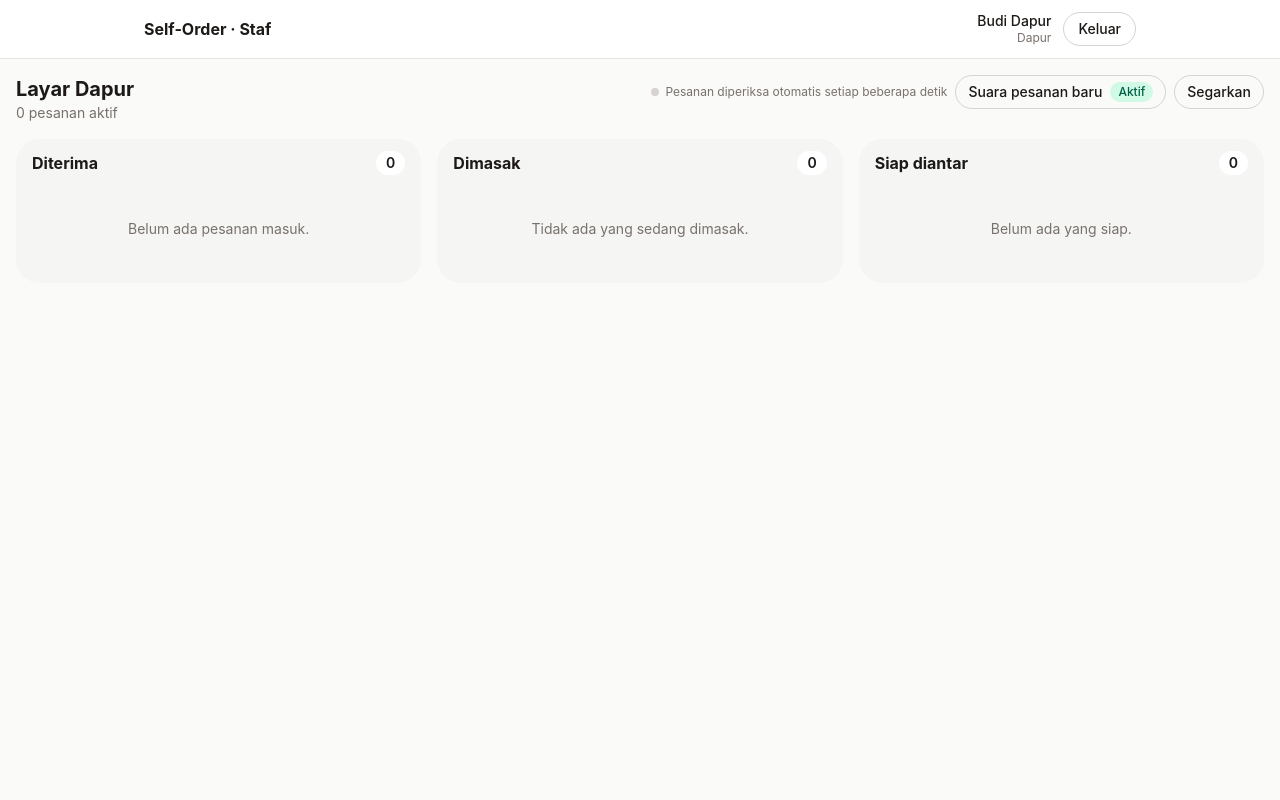
Test: rute staf › tombol Keluar mengakhiri sesi, memberi tahu server, dan kembali ke login
The width and height of the screenshot is (1280, 800).
Step 1. Click the button "Keluar" → (1100, 29), box [1063, 12, 1136, 46]
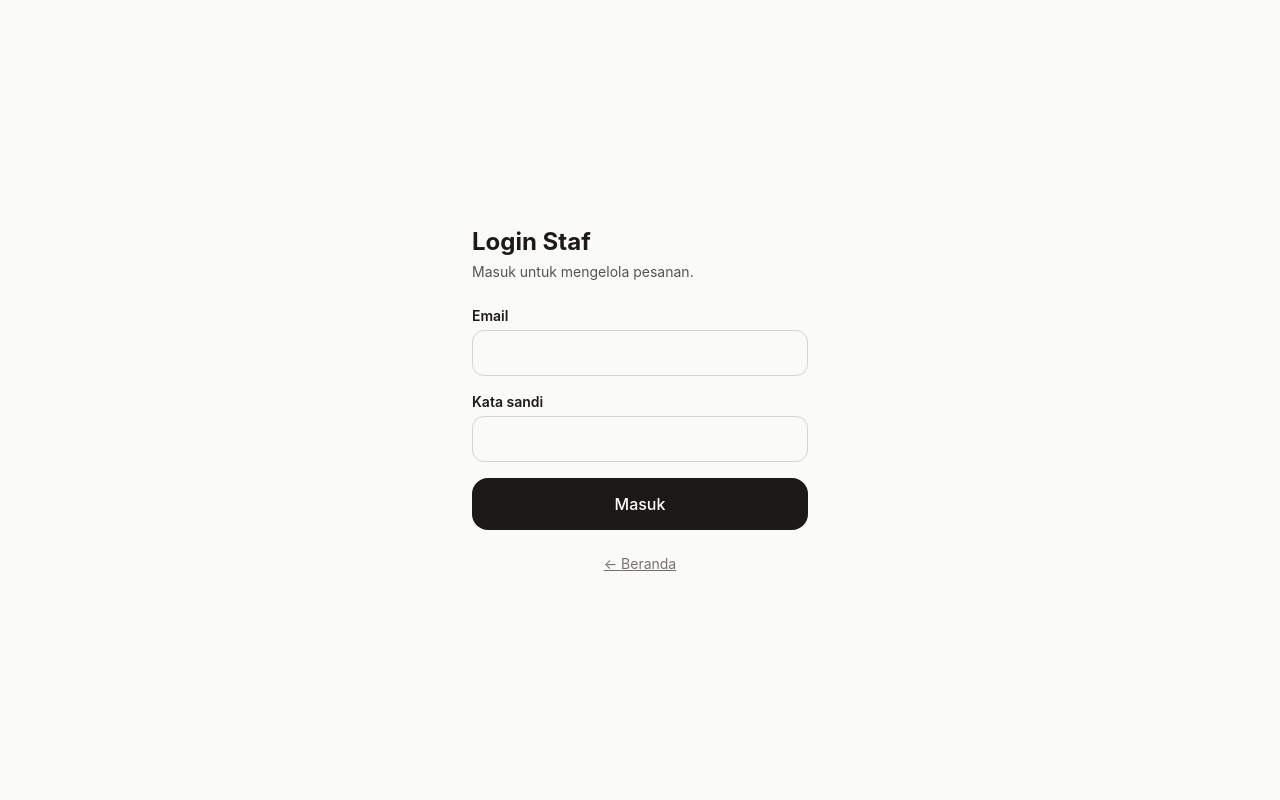
Check: the heading "Login Staf" is shown, box [472, 227, 591, 256]
Check: the heading "Layar Dapur" is gone
